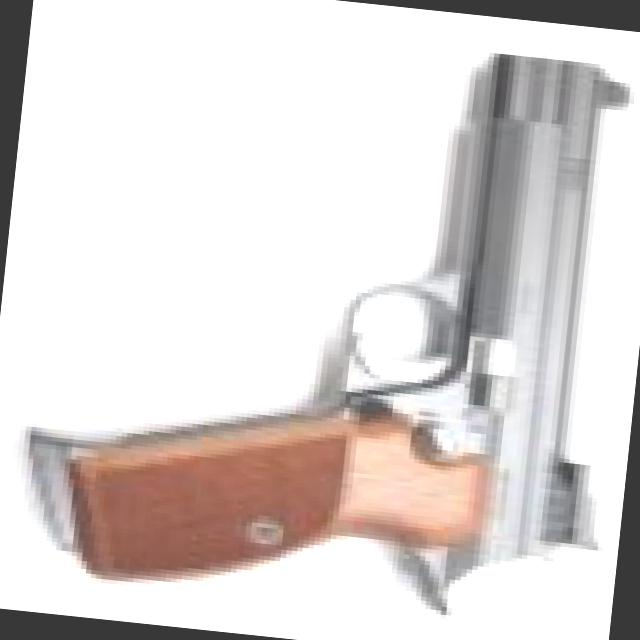handgun: (25, 2, 639, 635)
